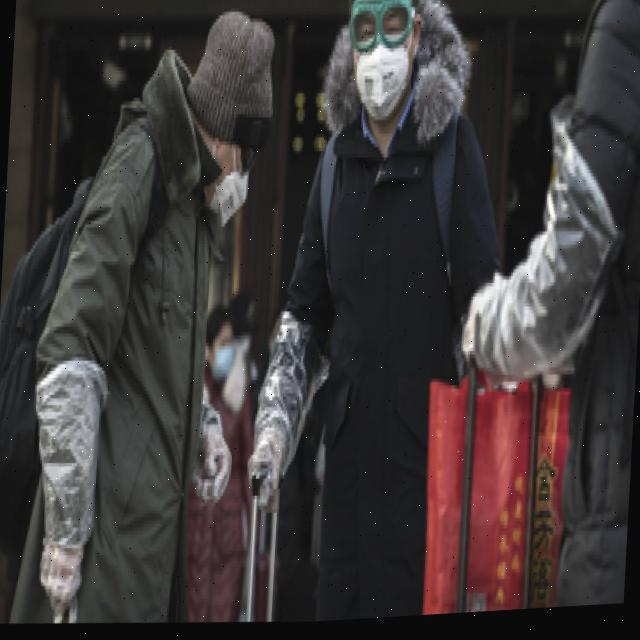Mask: (344, 39, 414, 129), (198, 152, 250, 230), (206, 346, 237, 384)
